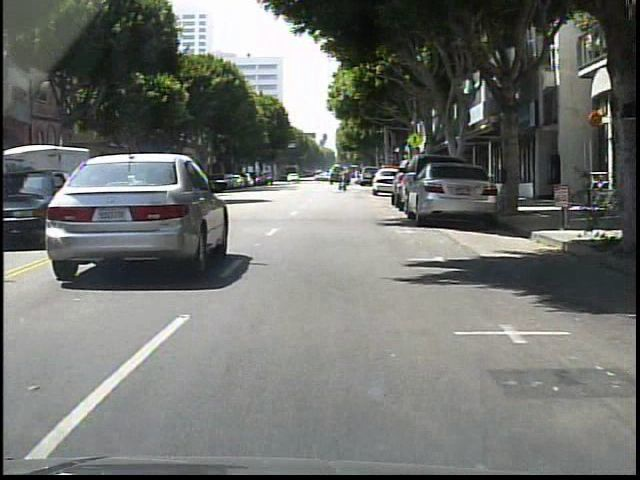person: (337, 167, 350, 190)
